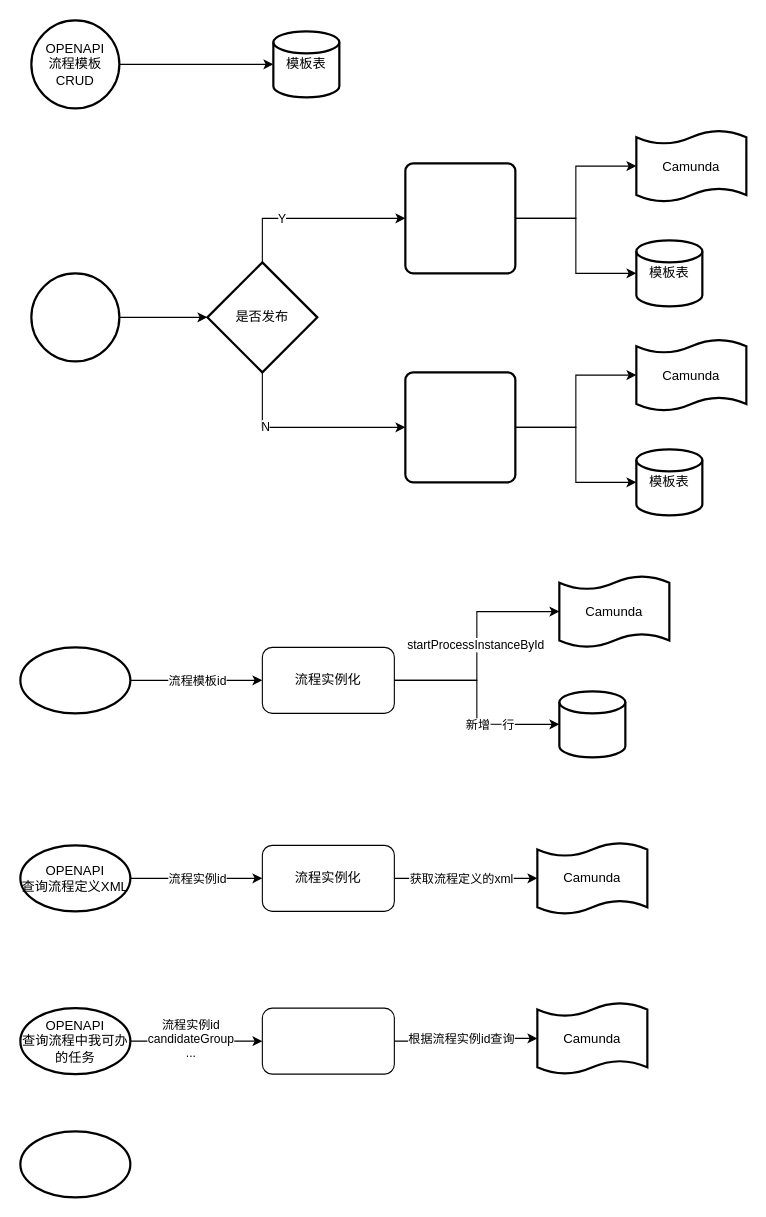
The diagram is 766 pixels wide and 1217 high, and some of its shapes have lost their labels. The centre of each missing label's shape, as x and y in pixels:
"Feign 流程 实例化" belongs at point 75,680.
"OPENAPI 完成任务" belongs at point 75,1164.
"OPENAPI 流程模板 发布/取消" belongs at point 75,317.
"取消部署 更新字段" belongs at point 460,427.
"查询" belongs at point 327,1040.
"流程实例表" belongs at point 592,724.
"部署流程 更新字段" belongs at point 460,218.
